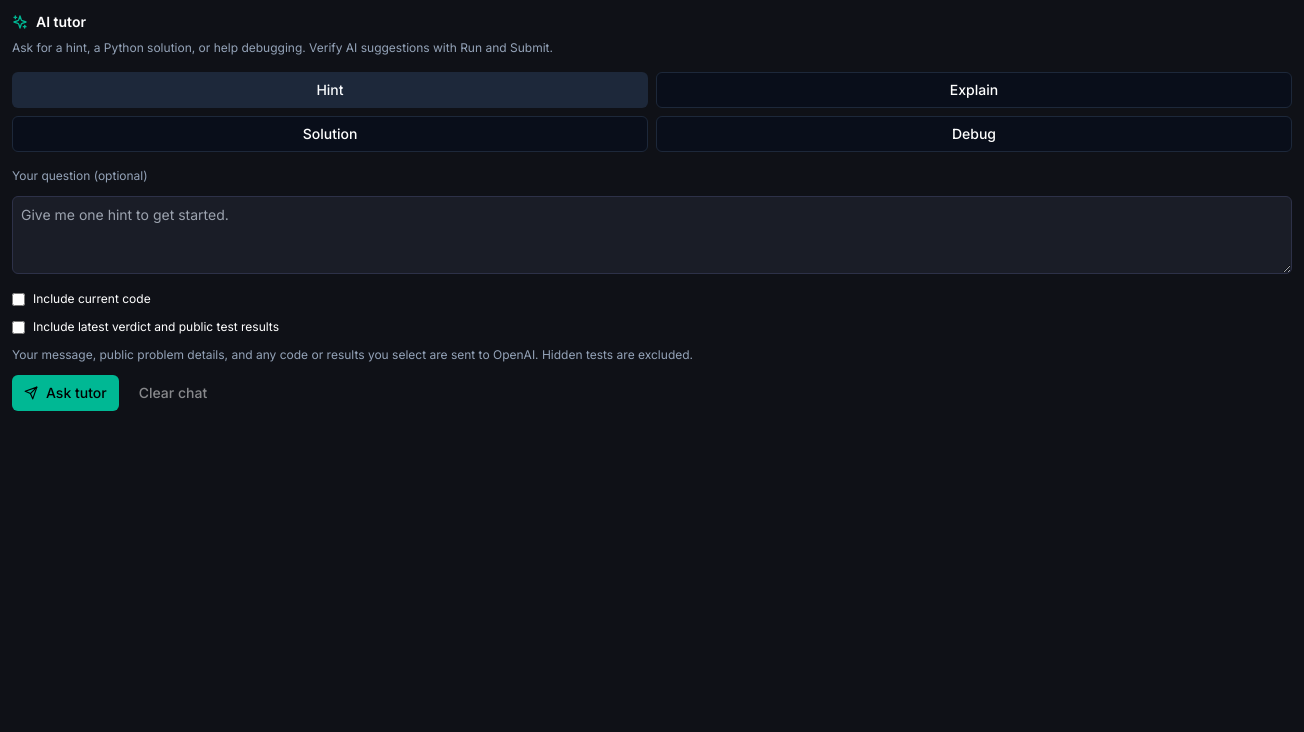
Test: a hint excludes code and result data unless the learner selects them
Click the button "Ask tutor" at (65, 393), box [12,375,119,411]
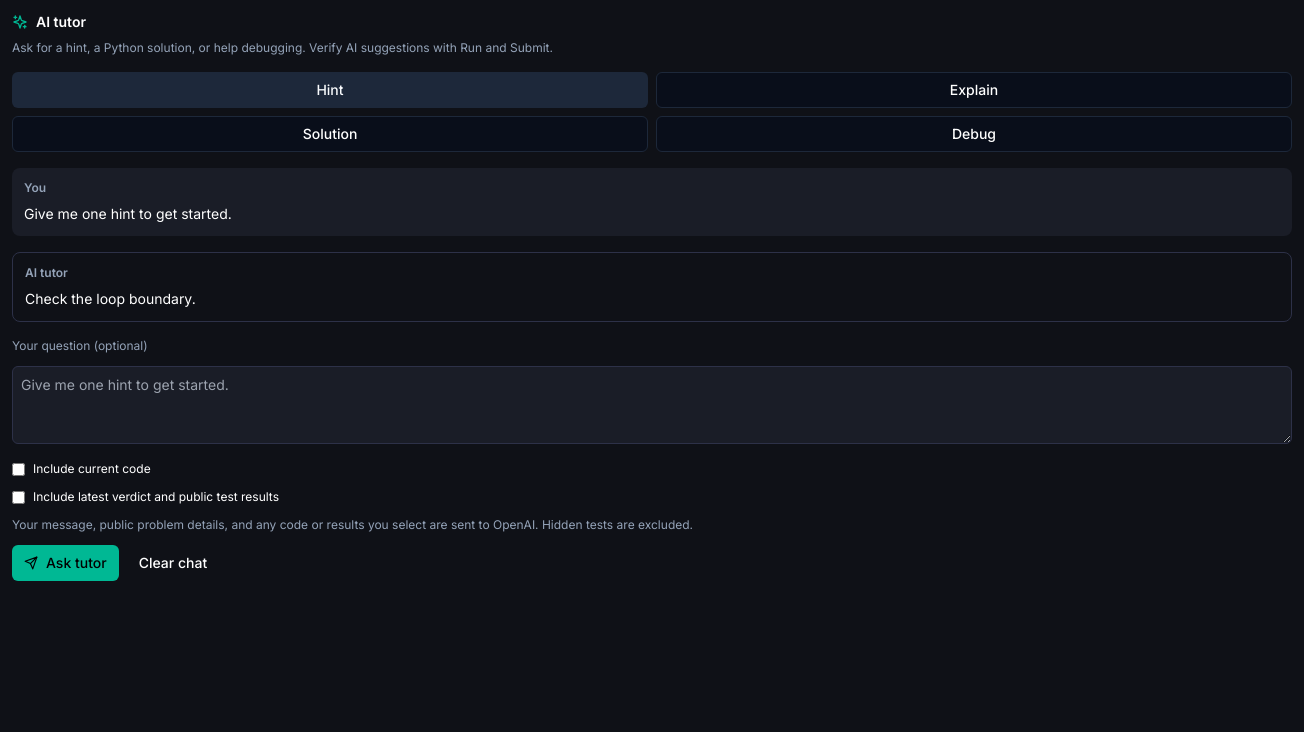
Expected: the text "sent to OpenAI" is shown, [12,517,693,532]
Result: the text "Check the loop boundary." is shown at [25,290,196,307]
